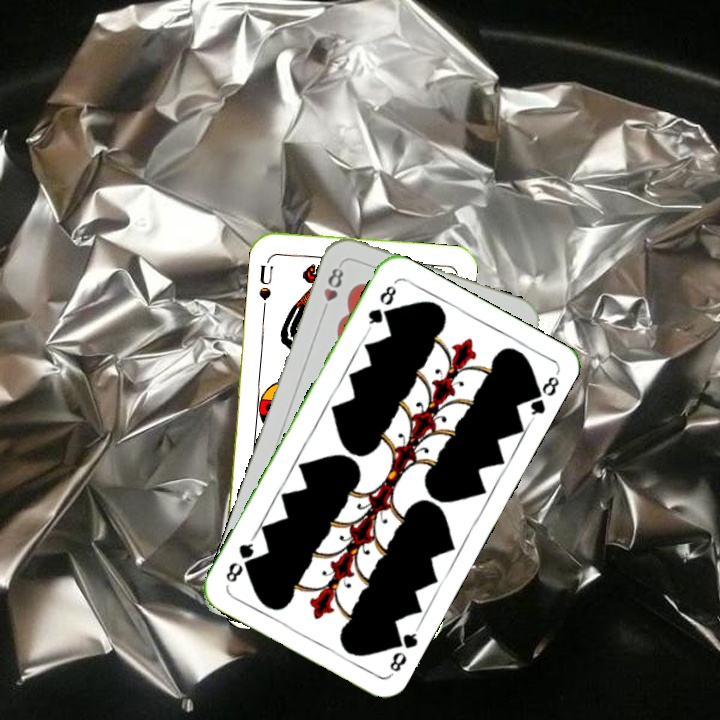G8: (385, 623, 422, 677), (363, 281, 399, 333)
H8: (318, 260, 347, 317)
SU: (255, 260, 275, 313)
